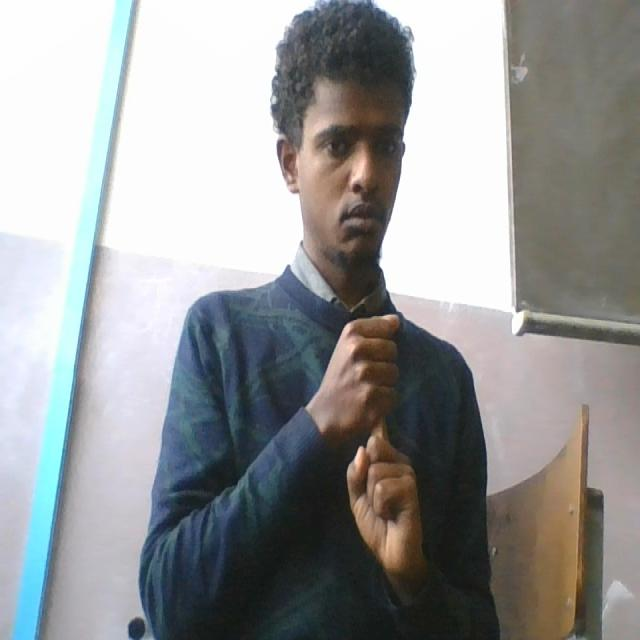meyaz: (330, 305, 424, 594)
